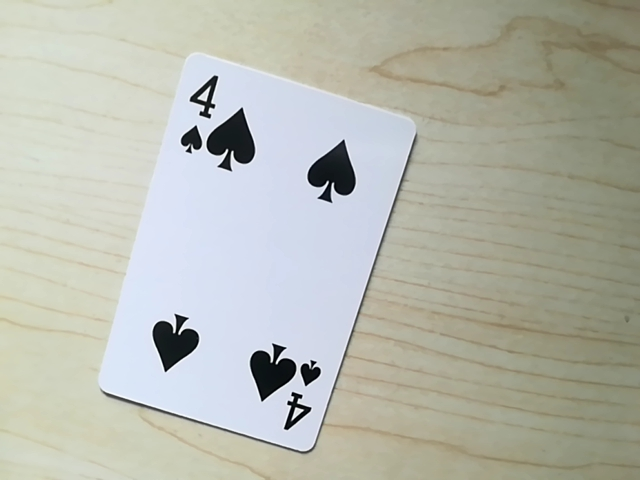ht 4: (170, 63, 235, 166), (275, 354, 323, 442)
